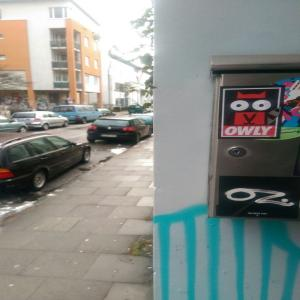Vehicle-registration-plate: (10, 120, 35, 125), (101, 135, 118, 139)
